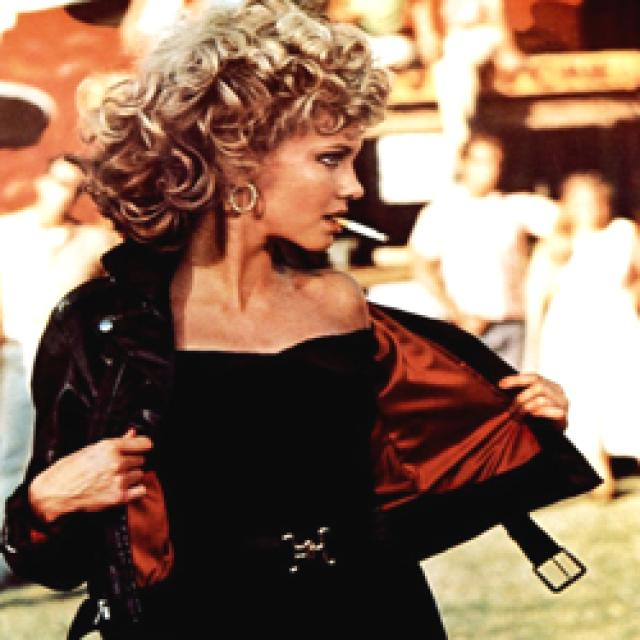Smooking: (332, 211, 391, 247)
